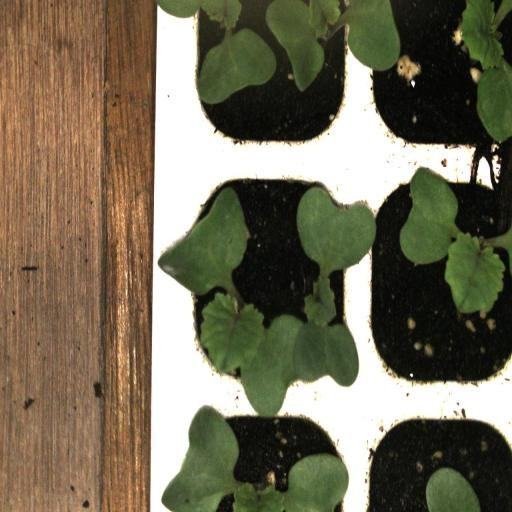seedling: (361, 162, 512, 396)
twoseedling: (171, 165, 361, 396), (172, 2, 362, 164)
